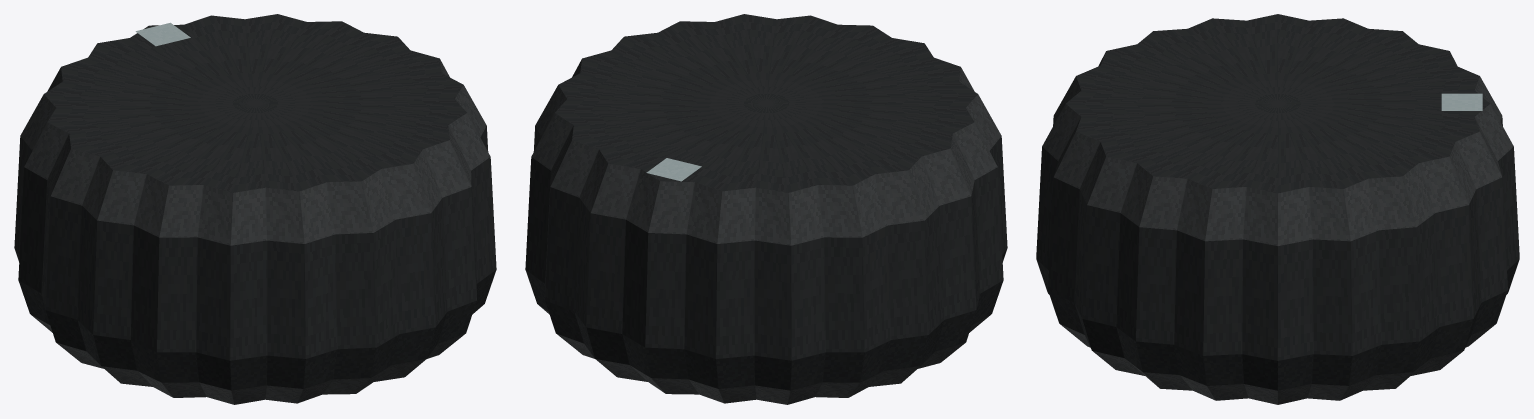
File: knob_outer.obj
The picture shows the model from 3 angles, left to right: view 1: azimuth 30°, elevation 25°; view 2: azimuth 150°, elevation 25°; view 3: azimuth 270°, elevation 25°; orthographic projection.
Parts seen in each view (by area): view 1: pedal; view 2: pedal; view 3: pedal.
Part boxes in pixels (left/top/right/bottom): pedal: left=14, top=14, right=496, bottom=404; pedal: left=525, top=14, right=1007, bottom=404; pedal: left=1036, top=14, right=1519, bottom=404.
Size of the model in its own units: 0.1025 by 0.0509 by 0.1025.
